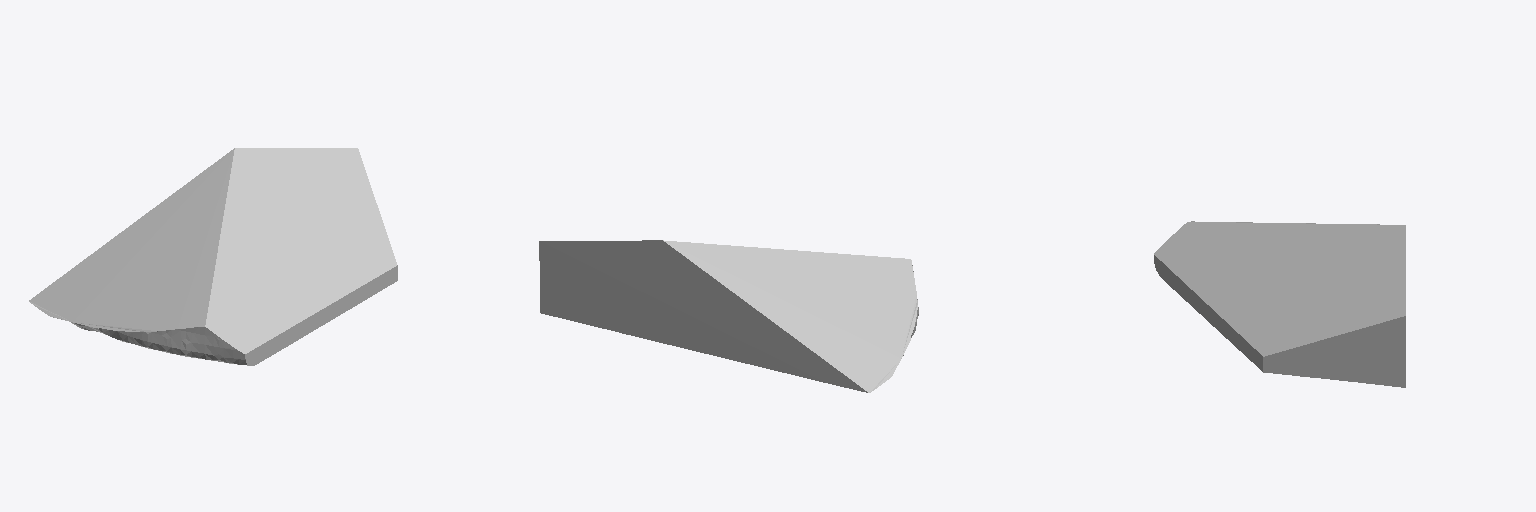
Rendered from low_cell_088.obj.
The picture shows the model from 3 angles: view 1: azimuth 30°, elevation 25°; view 2: azimuth 150°, elevation 25°; view 3: azimuth 270°, elevation 25°; orthographic projection.
Parts seen in each view (by area): view 1: low_cell.088_low_cell.087; view 2: low_cell.088_low_cell.087; view 3: low_cell.088_low_cell.087.
Part boxes in pixels (left/top/right/bottom): low_cell.088_low_cell.087: left=29, top=148, right=397, bottom=365; low_cell.088_low_cell.087: left=539, top=240, right=918, bottom=392; low_cell.088_low_cell.087: left=1154, top=221, right=1405, bottom=387.
Size of the model in its own units: 0.7822 by 0.233 by 0.5173.